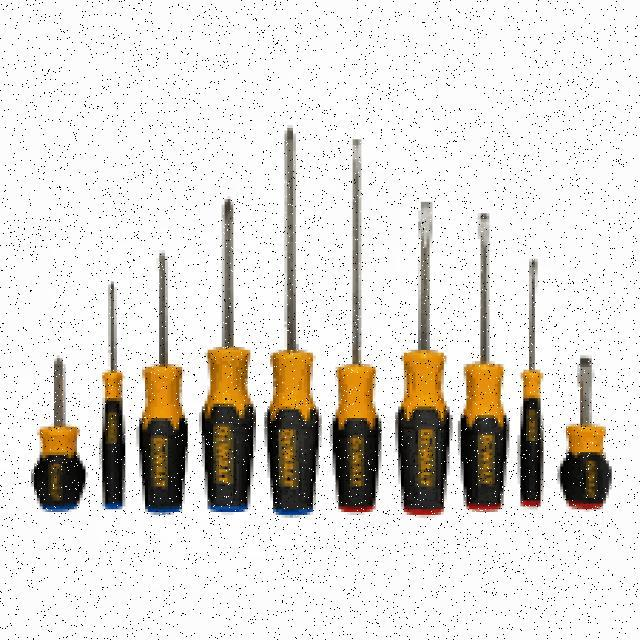screwdriver: (270, 128, 316, 513), (333, 141, 379, 512), (398, 202, 450, 513), (206, 200, 252, 512), (462, 214, 504, 511), (142, 255, 186, 513), (30, 357, 84, 510), (560, 358, 610, 508), (520, 262, 544, 506), (100, 282, 124, 510)
